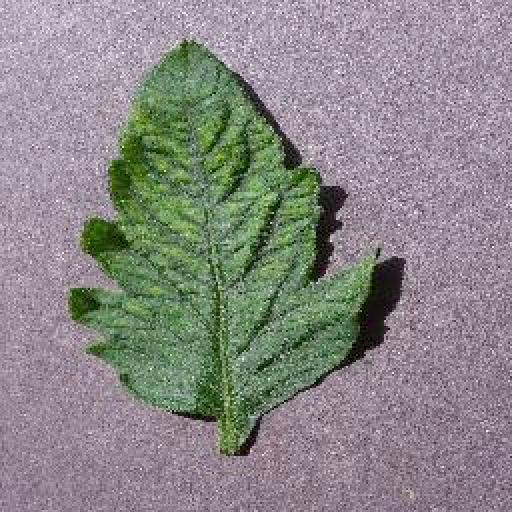disease_tomato: (63, 38, 381, 424)
